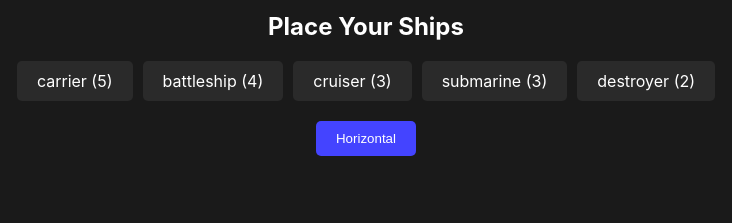
Test: ShipPlacement Component › shows placement instructions when ship is selected
This screenshot has width=732, height=223.
Click the text "carrier (5)". click: (75, 81)
box: x1=17 y1=61 x2=133 y2=101
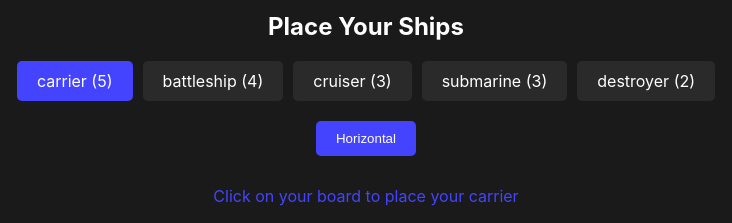
Expected: the text "Click on your board to place your carrier" is shown, x1=213 y1=186 x2=519 y2=206
